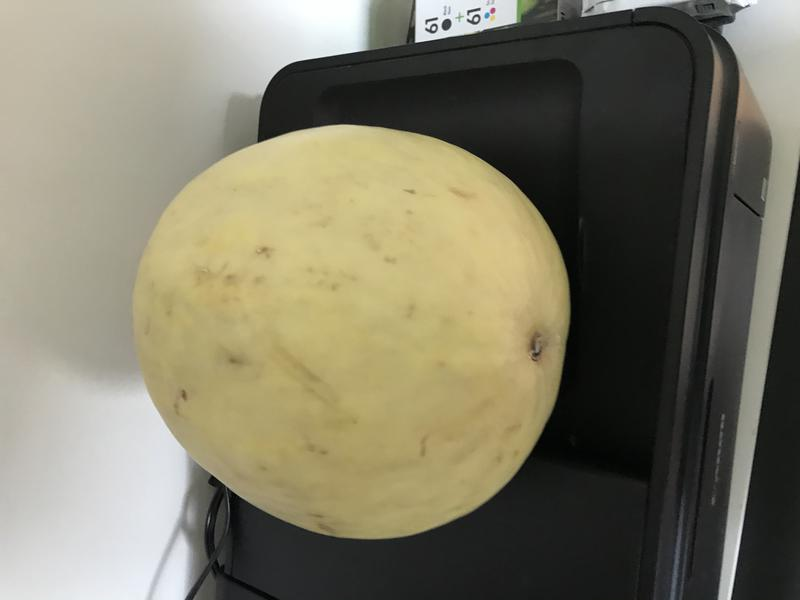honeydew: (116, 112, 584, 555)
